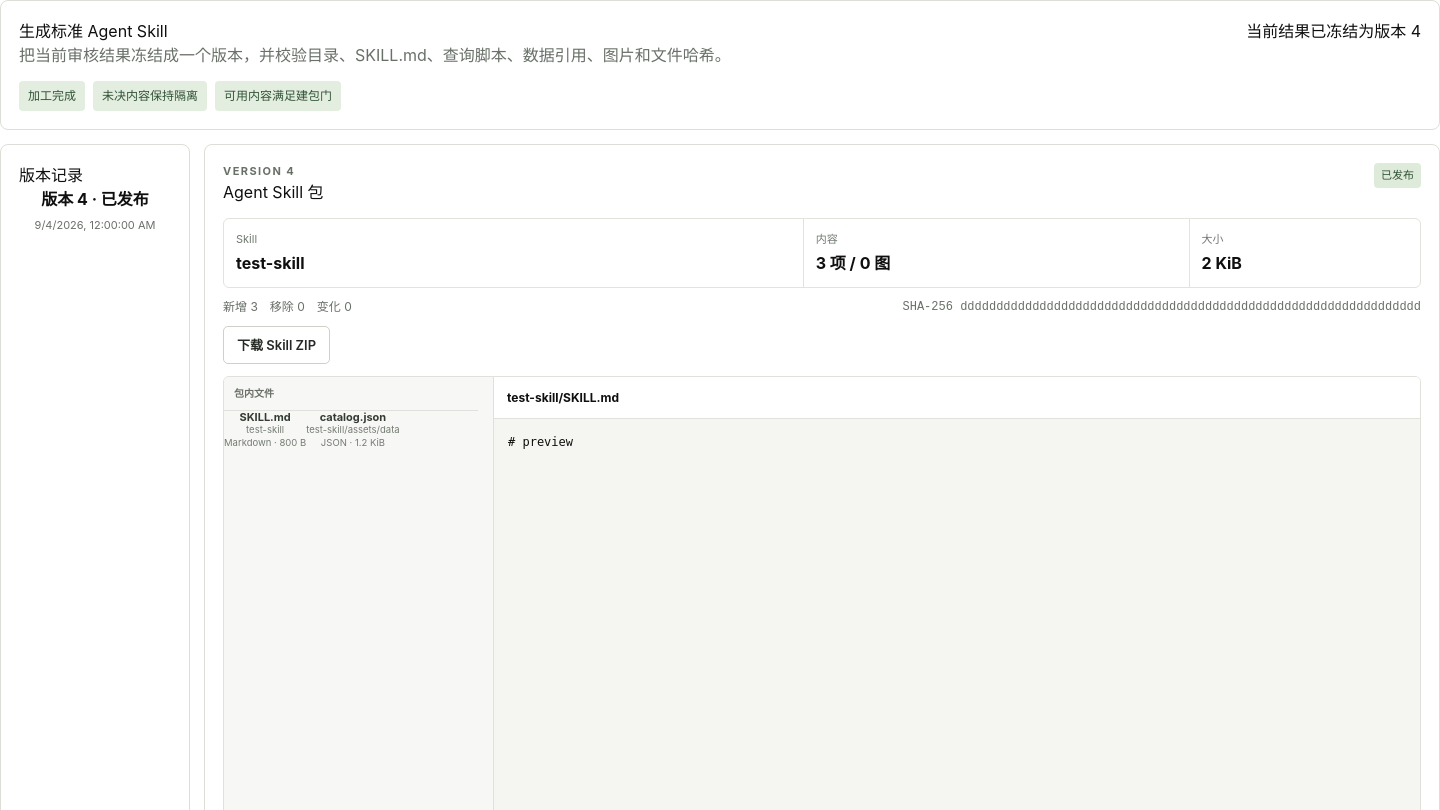
知识包版本身份 › 用固定高度文件浏览器切换包内文件
Step 1. Click the button "catalog.json test-skill/assets/data JSON · 1.2 KiB" → (353, 430), box [306,411,400,448]
(page scrolled)
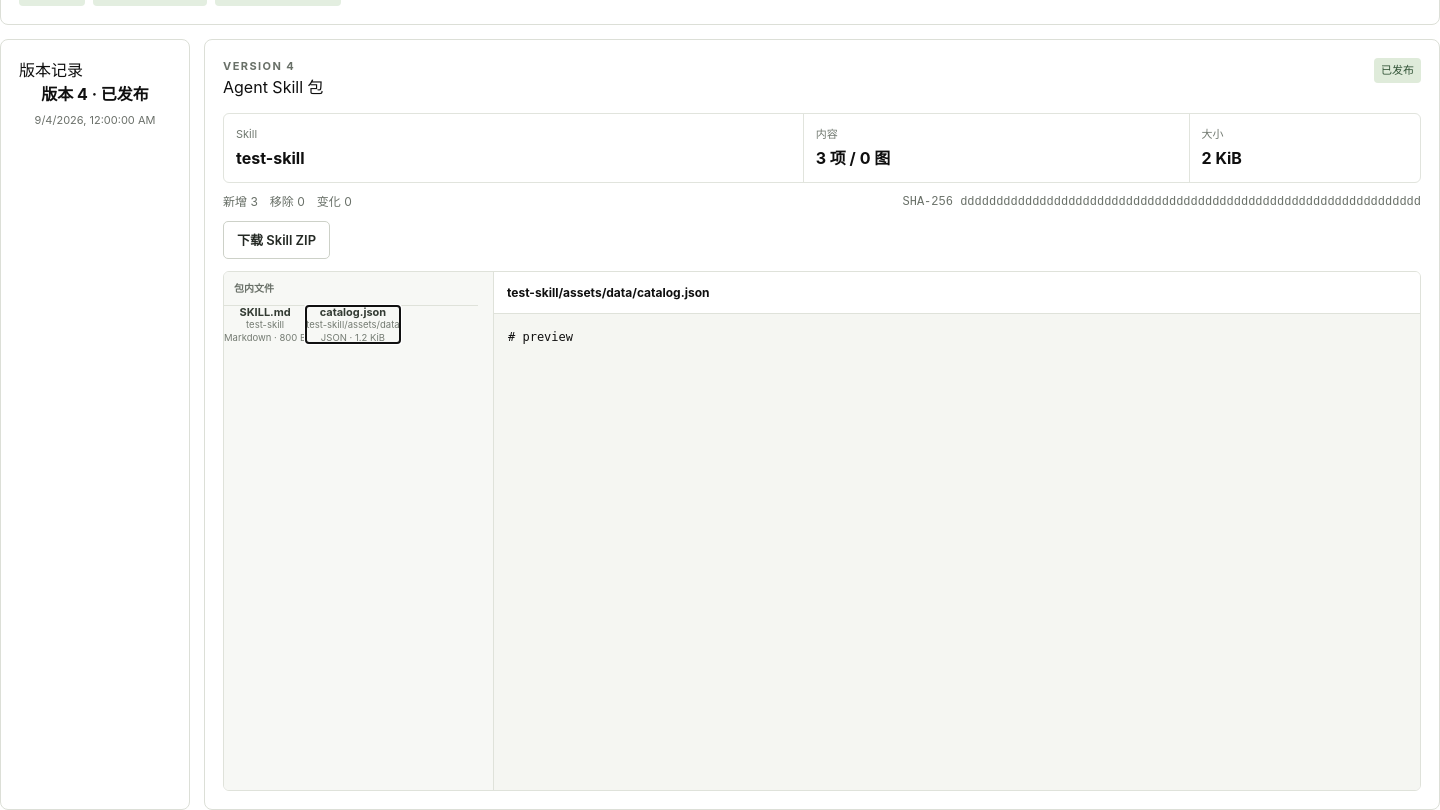
Result: the element named "包内文件预览" shows "test-skill/assets/data/catalog.json" at [507,284,710,300]
